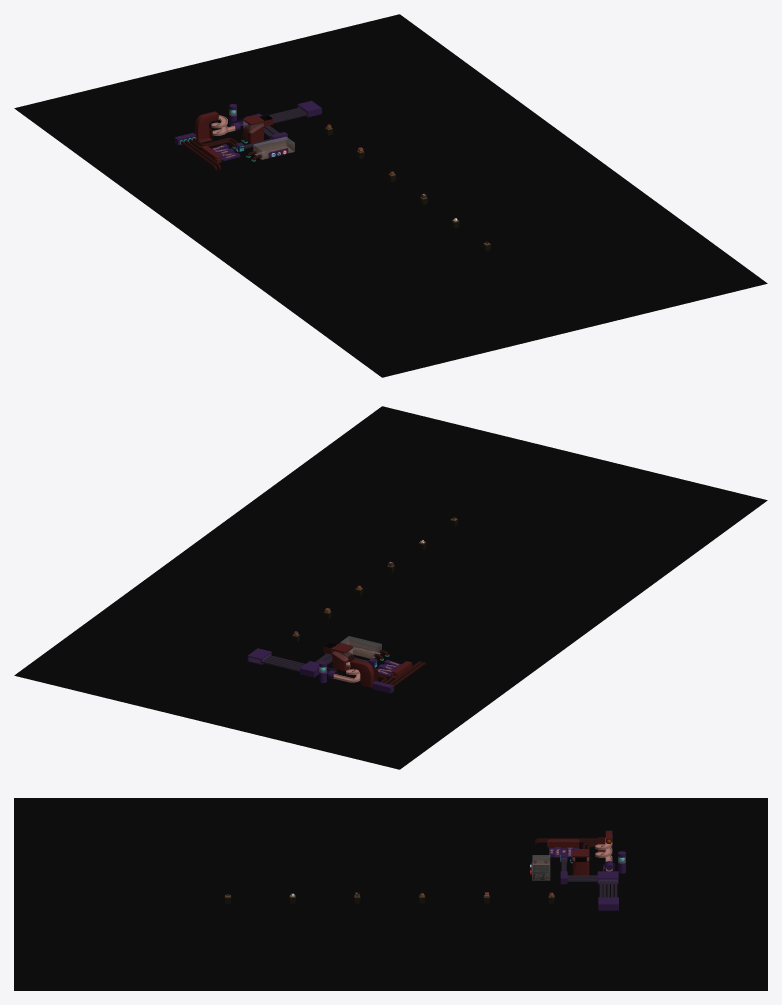
File: factorylowpoly.glb
3 views of the same model, one above another, from view 1: azimuth 30°, elevation 25°; view 2: azimuth 150°, elevation 25°; view 3: azimuth 270°, elevation 25° (orthographic). The views are drawn at different scales.
Parts seen in each view (by area): view 1: Plane.001; view 2: Plane.001; view 3: Plane.001, Plane.012.
Boxes of the visible parts, x1,y1,x2,y2 form: Plane.001: (14,14,767,377); Plane.001: (14,406,767,769); Plane.001: (14,798,767,990); Plane.012: (532,855,549,880).
Bounding box in the file's own units: 137 × 8.45 × 227.
28 materials, 4 textured.
